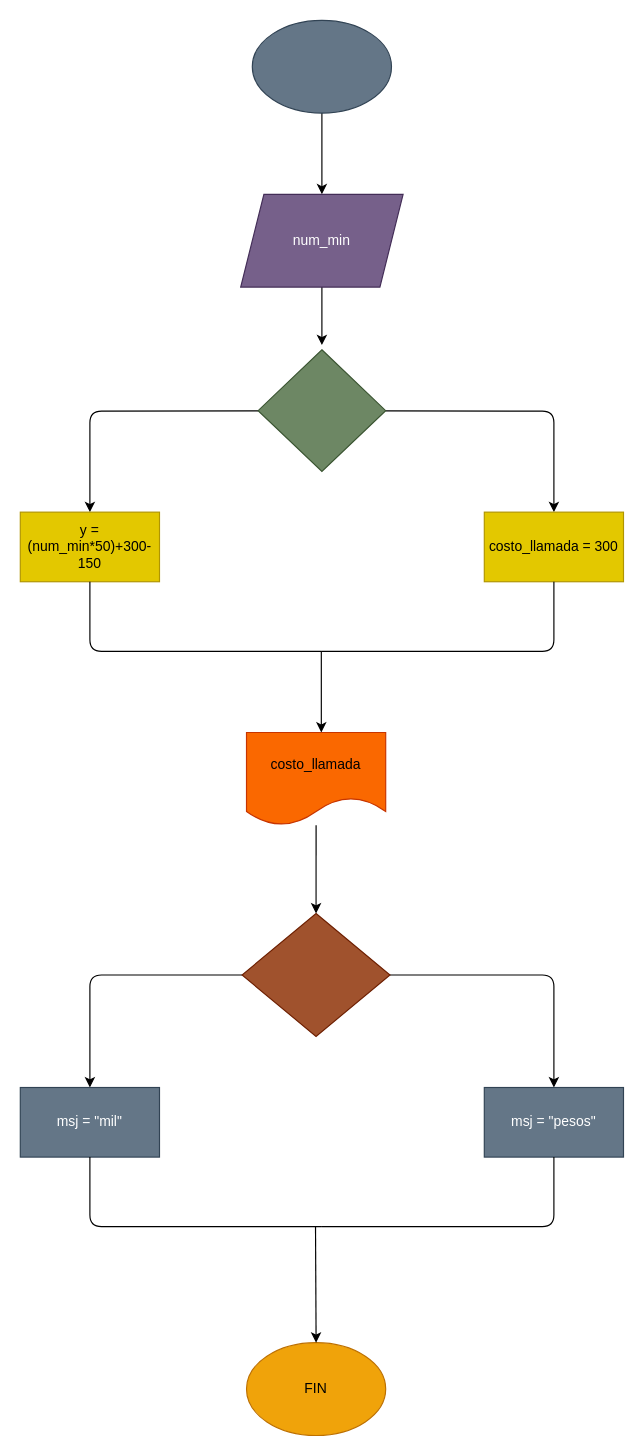
Image size: 644x1456. Some labels were removed from this diagram. Each missing label, with the centre of its shape:
INICIO: pixel 321 66
num_min<=3: pixel 321 410
y = > 999: pixel 315 974
